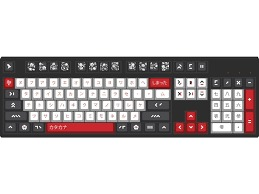keyboard: (0, 61, 255, 140)
